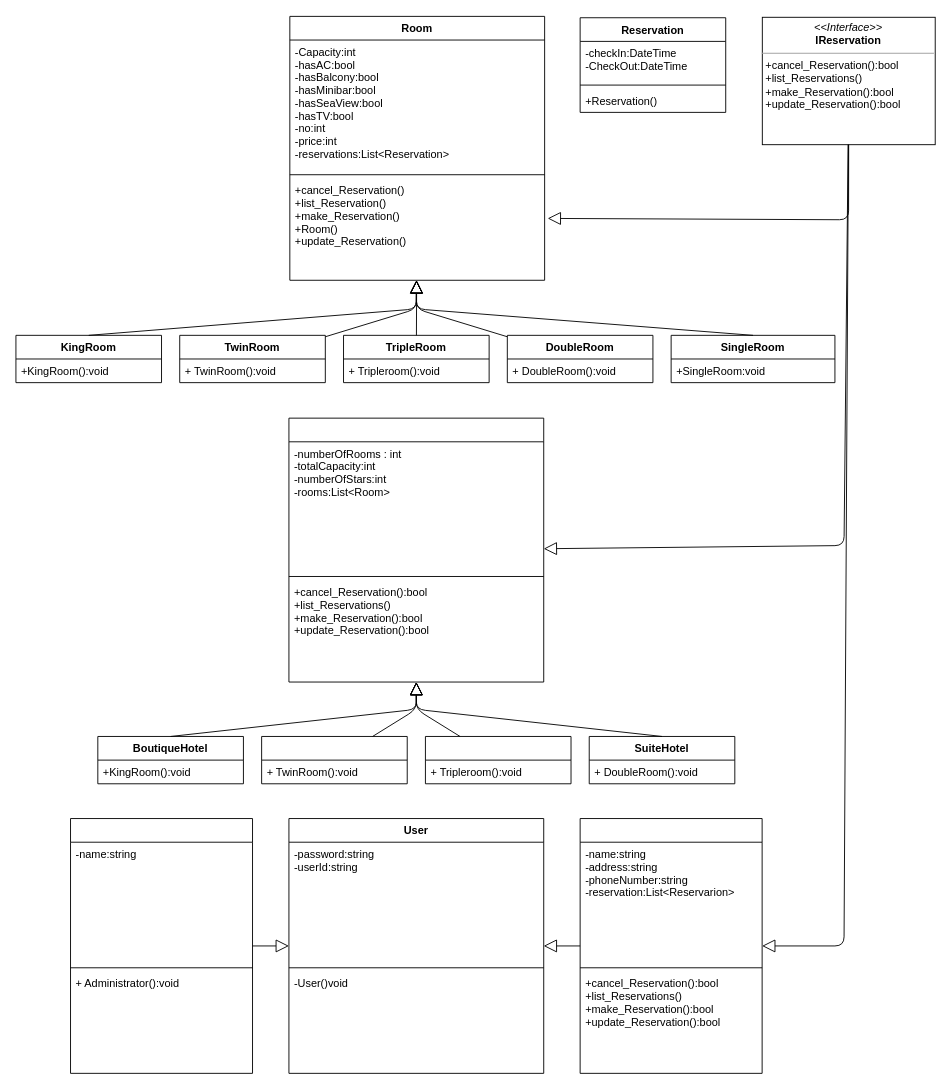
Some shapes in this 952 by 1091 pixel diagram are drawn without their labels. The shapes that lost their labels are listed below. From the top down, each one's box as (x1, y1, x2, y2) in pixels, then its label:
(288, 417, 544, 682): Hotel
(261, 736, 407, 784): LuxuryHotel
(425, 736, 571, 784): ResortHotel
(70, 818, 253, 1073): Adminstrator
(579, 818, 762, 1073): Customer
